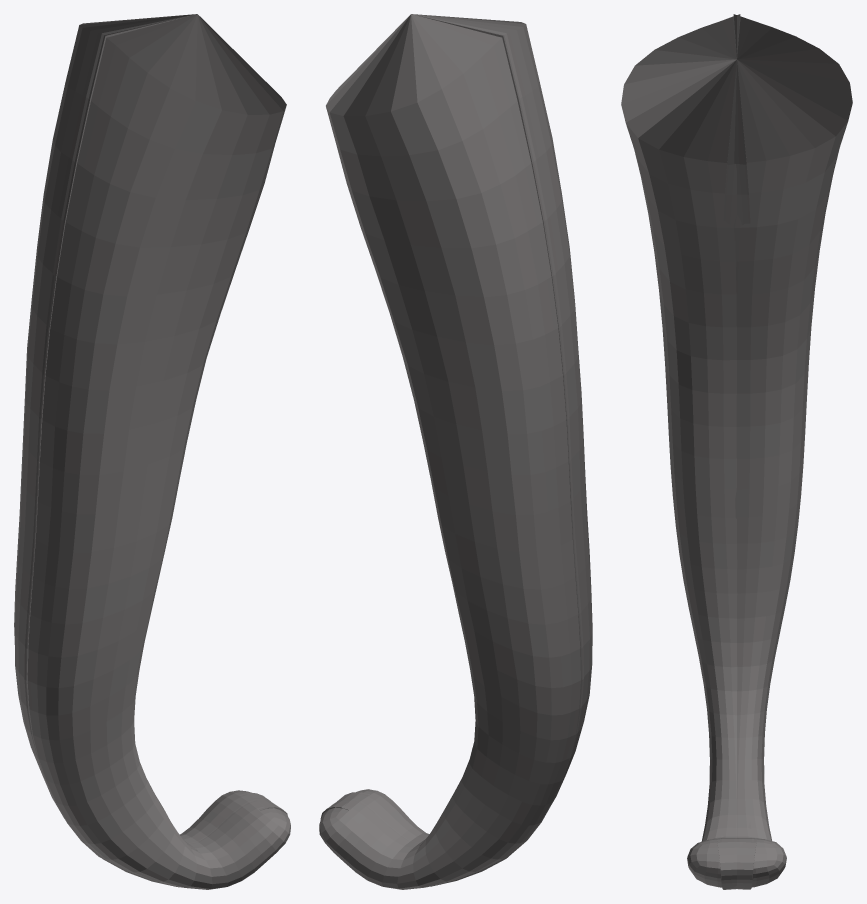
File: TrompaDos.obj
3 renders of one model, left to right at view 1: azimuth 30°, elevation 25°; view 2: azimuth 150°, elevation 25°; view 3: azimuth 270°, elevation 25°, orthographic. The views are drawn at different scales.
Parts seen in each view (by area): view 1: Trompa:polySurface1; view 2: Trompa:polySurface1; view 3: Trompa:polySurface1.
Part boxes in pixels (x1,y1,x2,y2): Trompa:polySurface1: (14, 14, 290, 889); Trompa:polySurface1: (319, 14, 592, 889); Trompa:polySurface1: (621, 14, 852, 889).
Size of the model in its own units: 0.4973 by 1.63 by 0.4158.
1 material, 1 textured.
